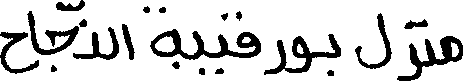ا: (26, 8, 40, 57), (121, 22, 135, 60)
ب: (192, 28, 206, 75), (327, 32, 340, 77)
ة: (141, 5, 181, 57)
ج: (44, 26, 79, 72)
ح: (0, 11, 27, 74)
ر: (264, 38, 284, 76)
ز: (398, 17, 420, 78)
ق: (222, 8, 261, 58)
ل: (354, 11, 391, 69), (106, 25, 118, 60)
م: (437, 33, 461, 65)
ن: (80, 20, 100, 59), (423, 16, 435, 67)
و: (283, 34, 310, 73)
ي: (216, 31, 228, 74)
